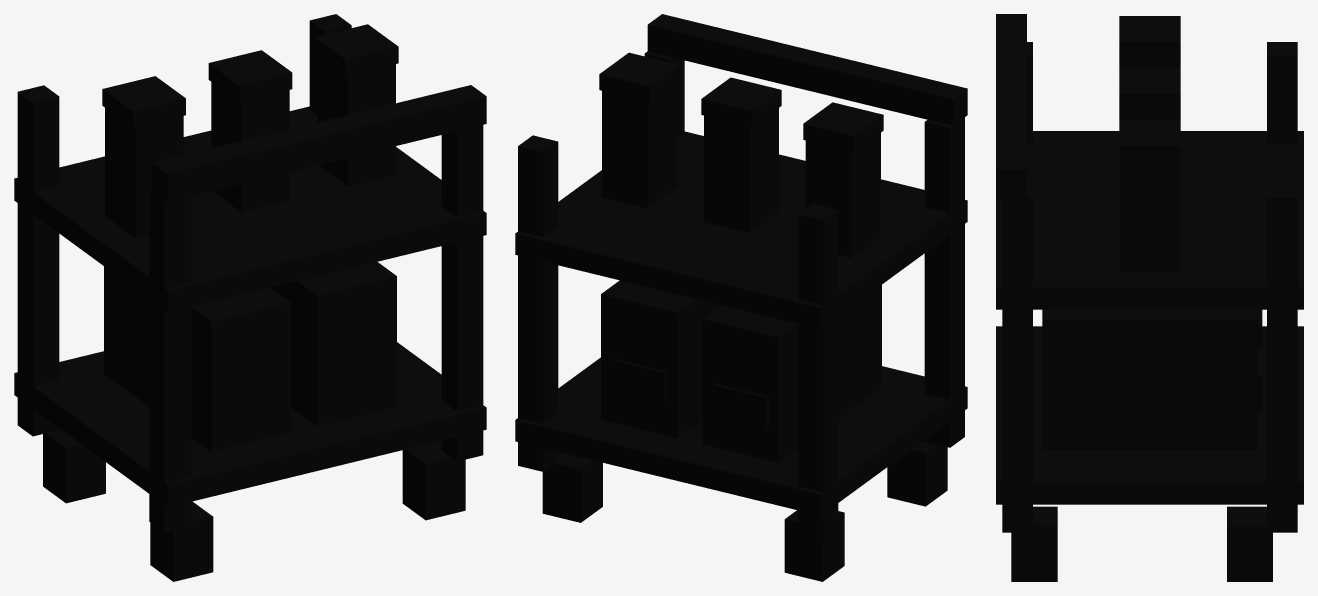
Rendered from lab_rolling_cart.obj.
3 views of the same model, side by side, from view 1: azimuth 30°, elevation 25°; view 2: azimuth 150°, elevation 25°; view 3: azimuth 270°, elevation 25° (orthographic). The views are drawn at different scales.
Bounding box in the file's own units: 0.75 × 0.9625 × 0.625.
